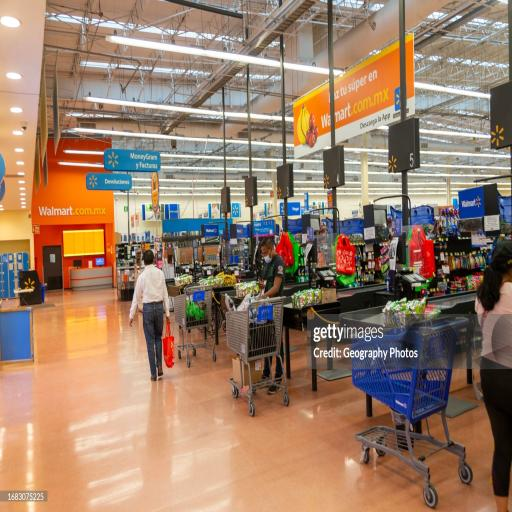shopping_cart: (351, 316, 473, 508), (226, 295, 290, 417), (173, 284, 217, 367)
